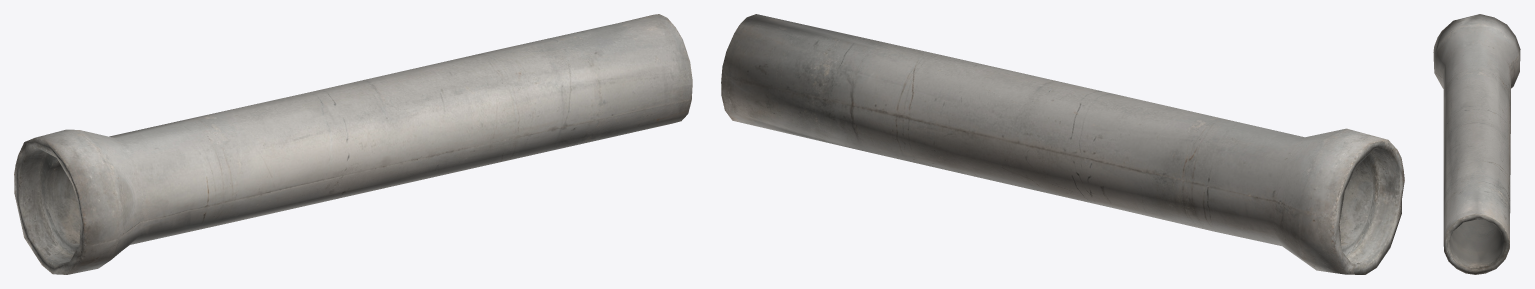
File: pipe.glb
3 renders of one model, left to right at view 1: azimuth 30°, elevation 25°; view 2: azimuth 150°, elevation 25°; view 3: azimuth 270°, elevation 25°, orthographic. The views are drawn at different scales.
Visible parts, largest first — view 1: vilidaw_LOD0_TIER3_000; view 2: vilidaw_LOD0_TIER3_000; view 3: vilidaw_LOD0_TIER3_000.
Boxes of the visible parts, bbox=[...] form: vilidaw_LOD0_TIER3_000: bbox=[14, 14, 692, 274]; vilidaw_LOD0_TIER3_000: bbox=[721, 14, 1404, 274]; vilidaw_LOD0_TIER3_000: bbox=[1433, 14, 1520, 274].
Bounding box in the file's own units: 1.71 × 0.3435 × 0.341.
Materials: 1 (1 with a texture image).
